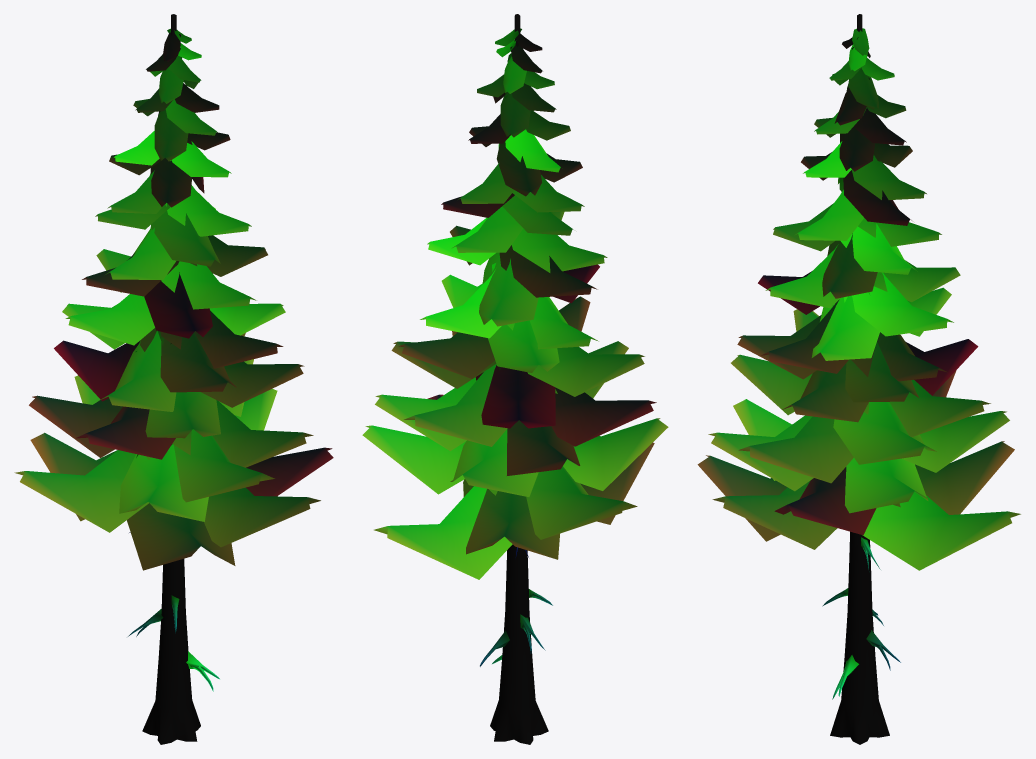
Rendered from M_Pine_6_7.fbx.
3 views of the same model, side by side, from view 1: azimuth 30°, elevation 25°; view 2: azimuth 150°, elevation 25°; view 3: azimuth 270°, elevation 25° (orthographic).
Parts seen in each view (by area): view 1: Tree_7; view 2: Tree_7; view 3: Tree_7.
Part boxes in pixels (<box>): Tree_7: <box>14,14,333,744</box>; Tree_7: <box>362,14,668,744</box>; Tree_7: <box>697,14,1020,744</box>.
Bounding box in the file's own units: 1017 × 2630 × 1077.
